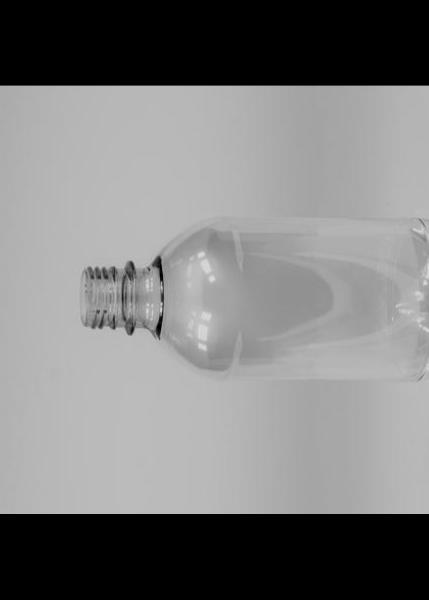bottle: (77, 207, 429, 382)
